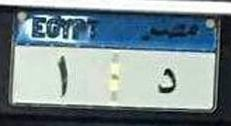1: (53, 54, 75, 101)
daal: (152, 63, 179, 100)
